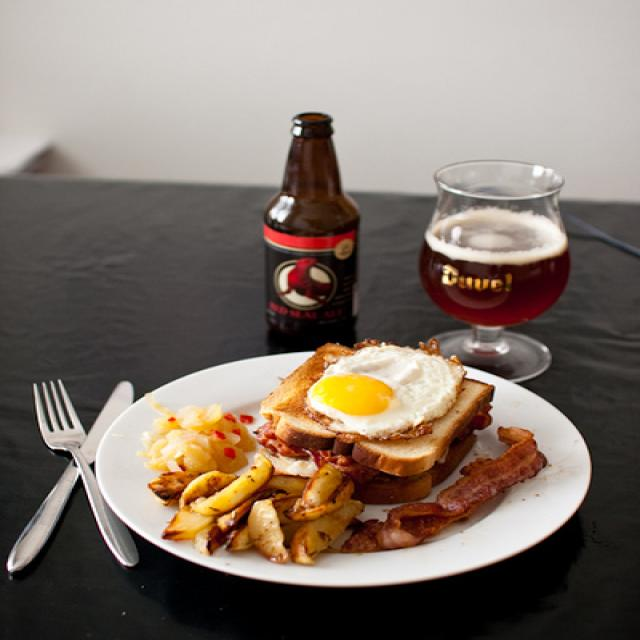鸡蛋料理: (307, 334, 448, 439)
